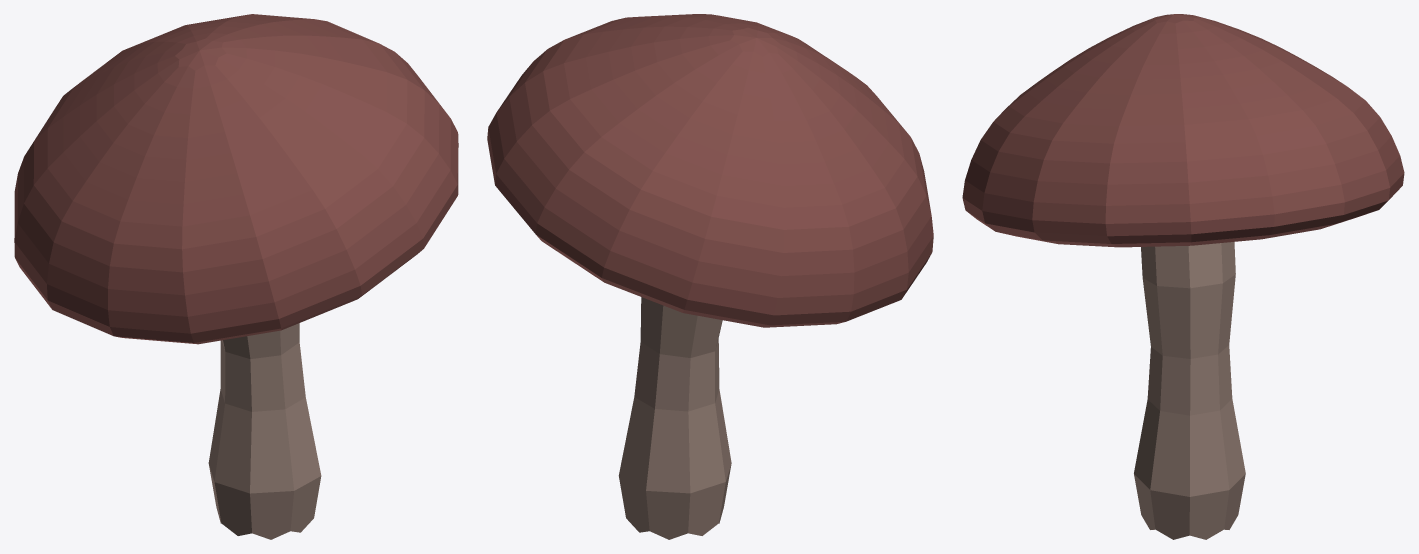
File: CogumeloMarrom.fbx
The picture shows the model from 3 angles, left to right: view 1: azimuth 30°, elevation 25°; view 2: azimuth 150°, elevation 25°; view 3: azimuth 270°, elevation 25°; orthographic projection. The views are drawn at different scales.
Visible parts, largest first — view 1: Circle; view 2: Circle; view 3: Circle.
Part boxes in pixels (left/top/right/bottom): Circle: left=14, top=14, right=458, bottom=539; Circle: left=487, top=14, right=933, bottom=539; Circle: left=962, top=14, right=1404, bottom=539.
Bounding box in the file's own units: 12.89 × 15.92 × 13.27.
